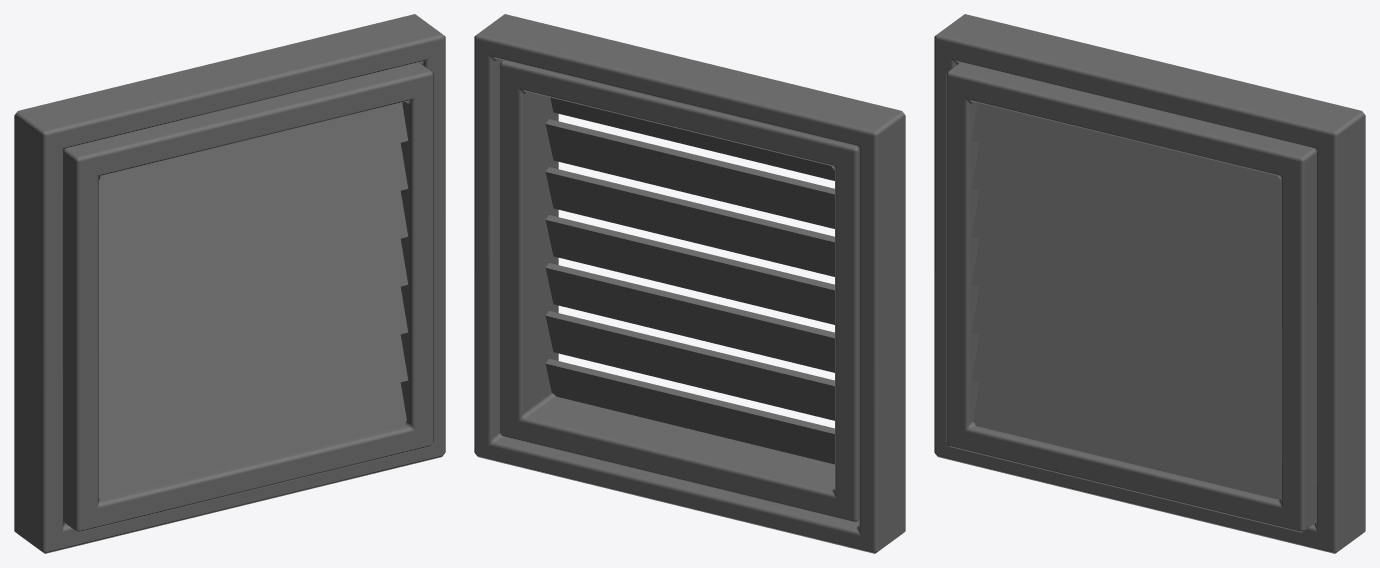
Rendered from Vent.fbx.
3 views of the same model, side by side, from view 1: azimuth 30°, elevation 25°; view 2: azimuth 150°, elevation 25°; view 3: azimuth 330°, elevation 25° (orthographic).
Visible parts, largest first — view 1: Vent1, Vent3; view 2: Vent3, Vent1; view 3: Vent1, Vent3.
Part boxes in pixels (<box>): Vent1: <box>98,103,408,499</box>; Vent3: <box>14,14,445,553</box>; Vent3: <box>474,14,905,553</box>; Vent1: <box>545,97,834,464</box>; Vent1: <box>971,103,1281,499</box>; Vent3: <box>934,14,1365,553</box>.
Bounding box in the file's own units: 89.02 × 89.02 × 16.01.
